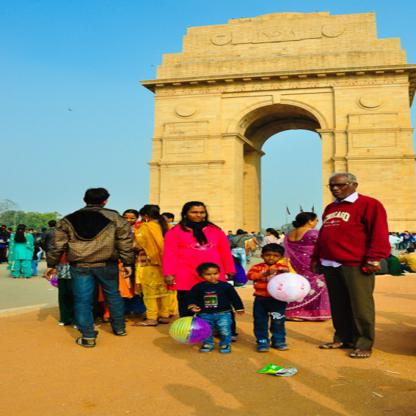Ball: (267, 273, 310, 299), (169, 317, 209, 344)
